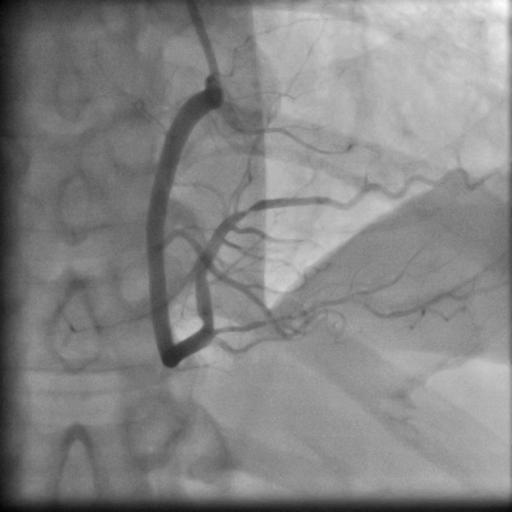Stenosis: (230, 200, 262, 220)
